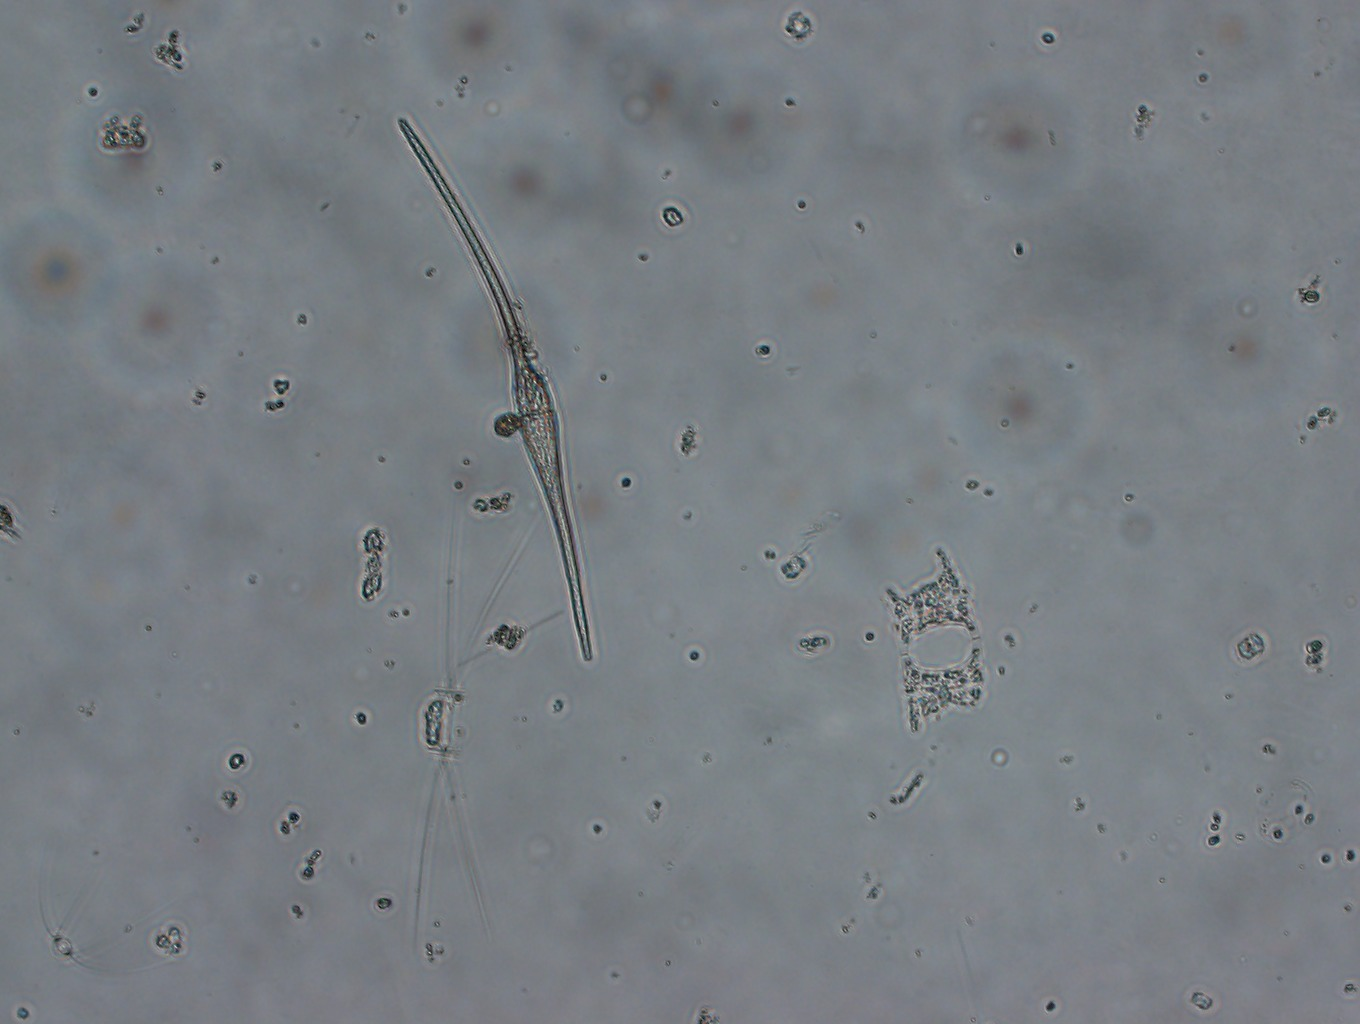ceratium fusus: (385, 113, 606, 675)
chaetoceros: (403, 463, 563, 947)
eucampia: (858, 535, 1010, 751)
